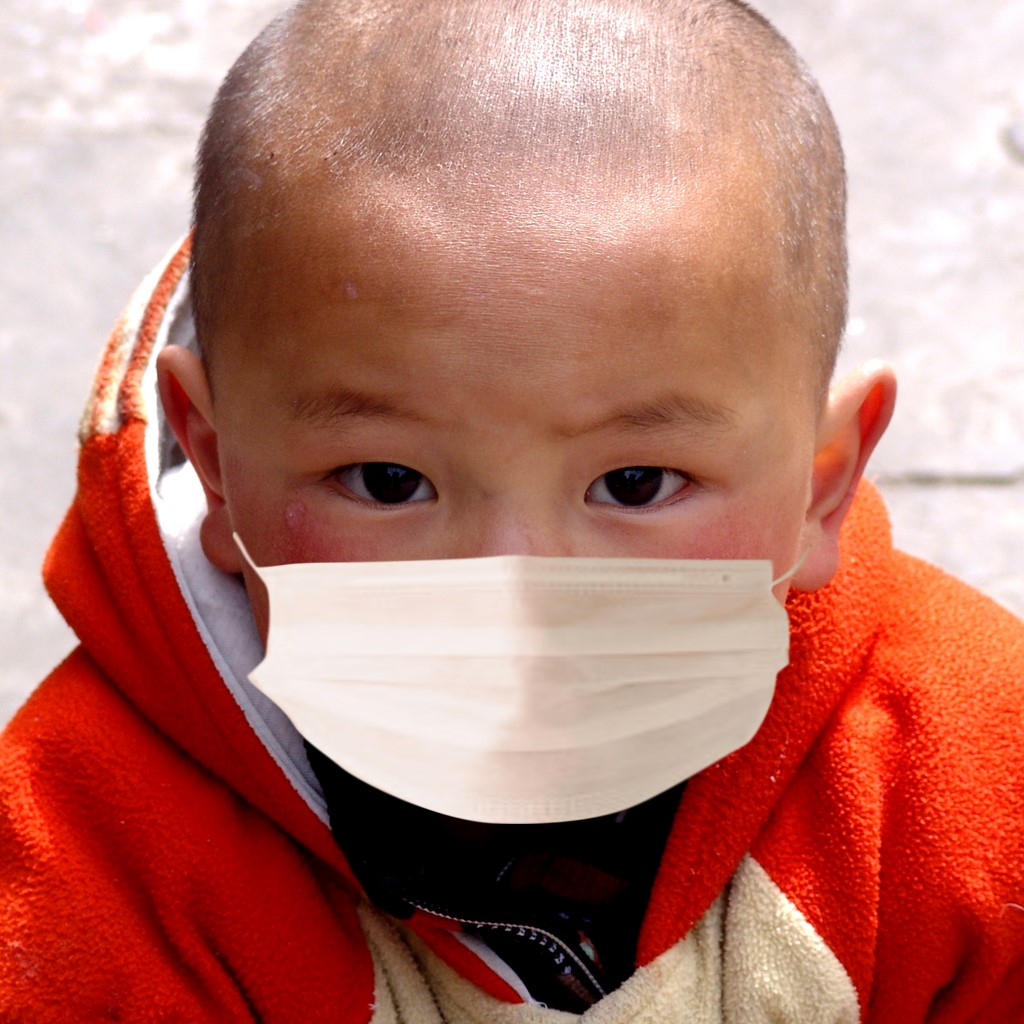con_mascara: (192, 67, 833, 844)
